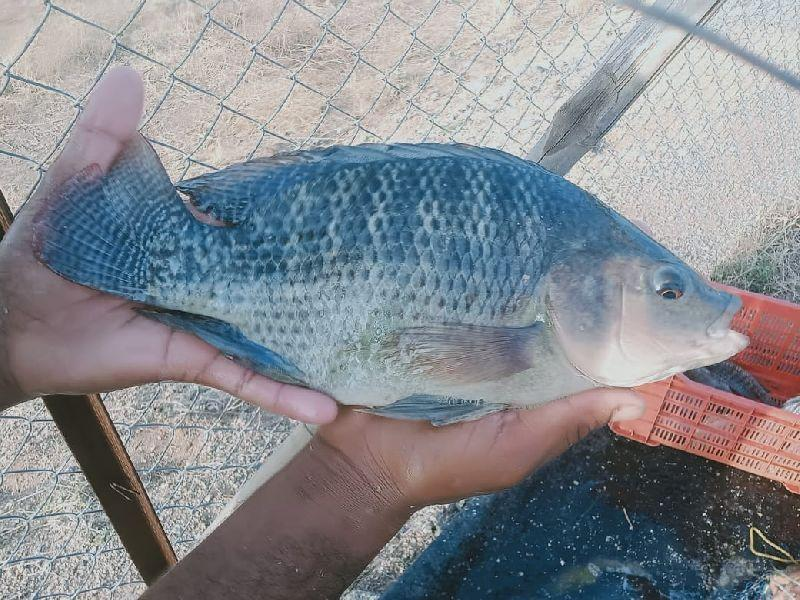Tilapia: (42, 125, 748, 430)
